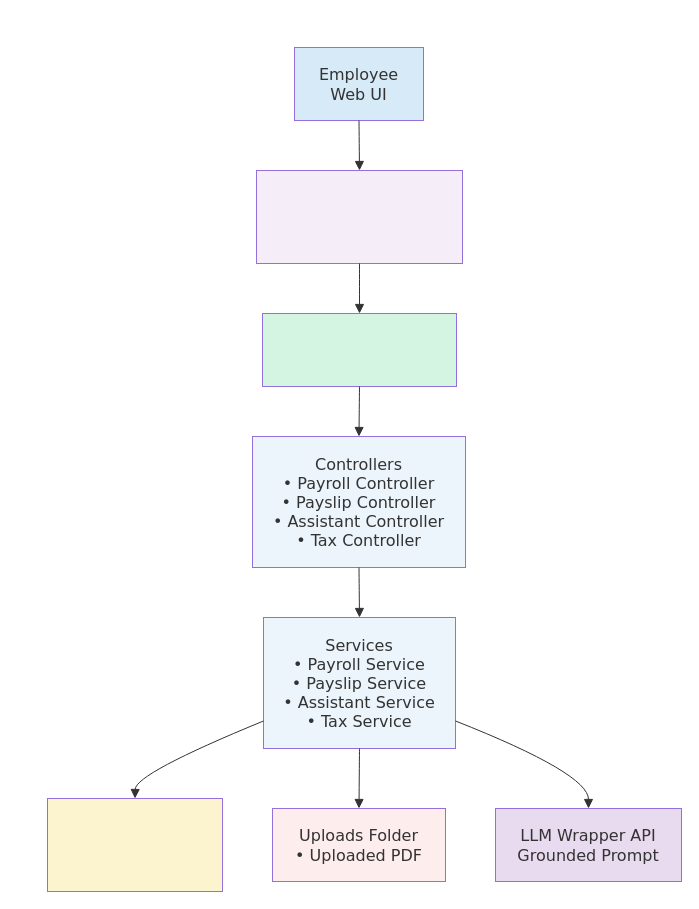
Image size: 699x909. Some labels were removed from this diagram. The centre of each missing label's shape, as x and y in pixels:
Mock Authentication x-employee-id Default: EMP001: the point at 359,217
Mock JSON Data • payroll.json • payslips.json: the point at 134,845
Payroll AI Assistant Node.js + Express: the point at 359,349
